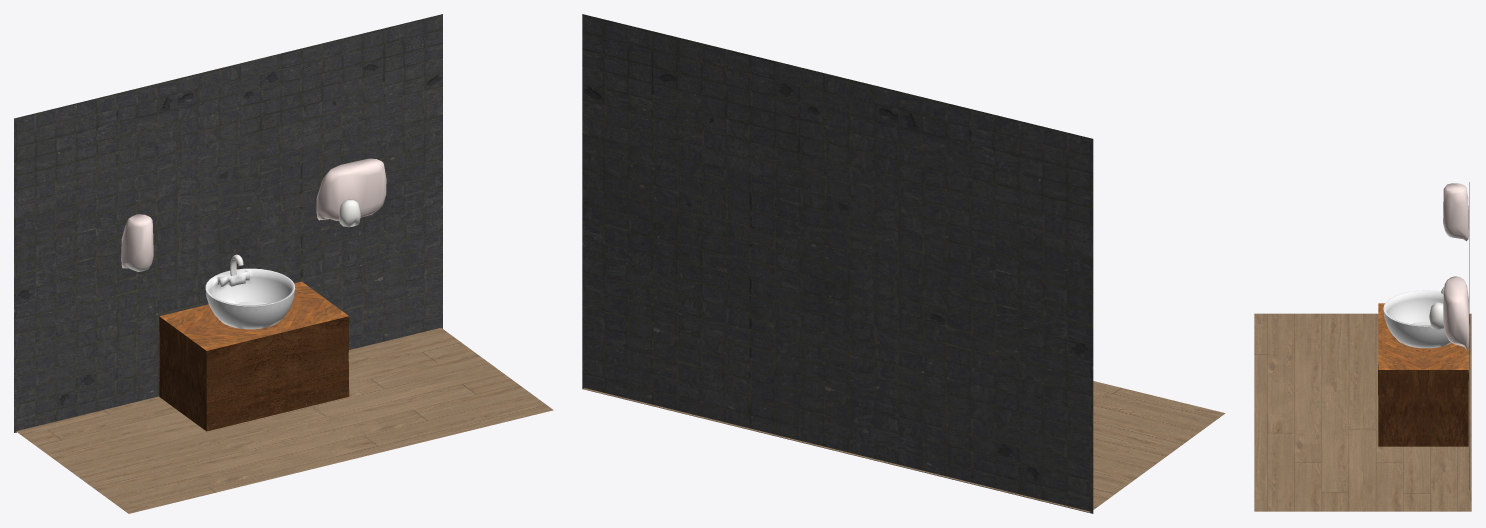
The model's file is prevencion_conjuntivitis.glb.
3 views of the same model, side by side, from view 1: azimuth 30°, elevation 25°; view 2: azimuth 150°, elevation 25°; view 3: azimuth 270°, elevation 25° (orthographic). The views are drawn at different scales.
Parts seen in each view (by area): view 1: Wall, Floor, Table, Basin, HandDryer, SoapDispenser; view 2: Wall, Floor; view 3: Floor, Table, Basin, HandDryer, SoapDispenser, Wall.
Part boxes in pixels (x1,y1,x2,y2): Wall: (14,14,442,432); Floor: (16,328,553,513); Table: (159,281,349,431); Basin: (205,268,295,329); HandDryer: (316,158,386,227); SoapDispenser: (121,214,153,271); Wall: (582,14,1093,513); Floor: (583,381,1225,512); Floor: (1254,313,1471,511); Table: (1378,303,1468,446); Basin: (1383,290,1451,348); HandDryer: (1429,276,1469,349); SoapDispenser: (1443,183,1468,241); Wall: (1469,182,1469,490).
Bounding box in the file's own units: 0.2022 × 0.1417 × 0.093.
Materials: 7 (6 with a texture image).
